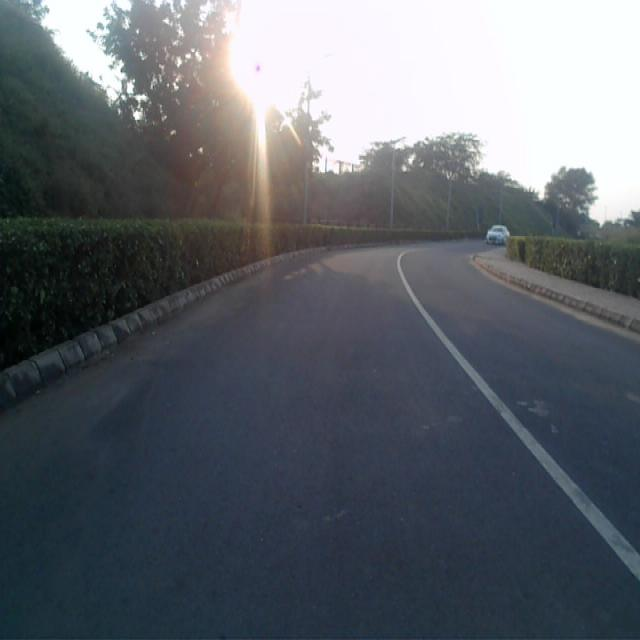lane: (0, 249, 640, 640)
